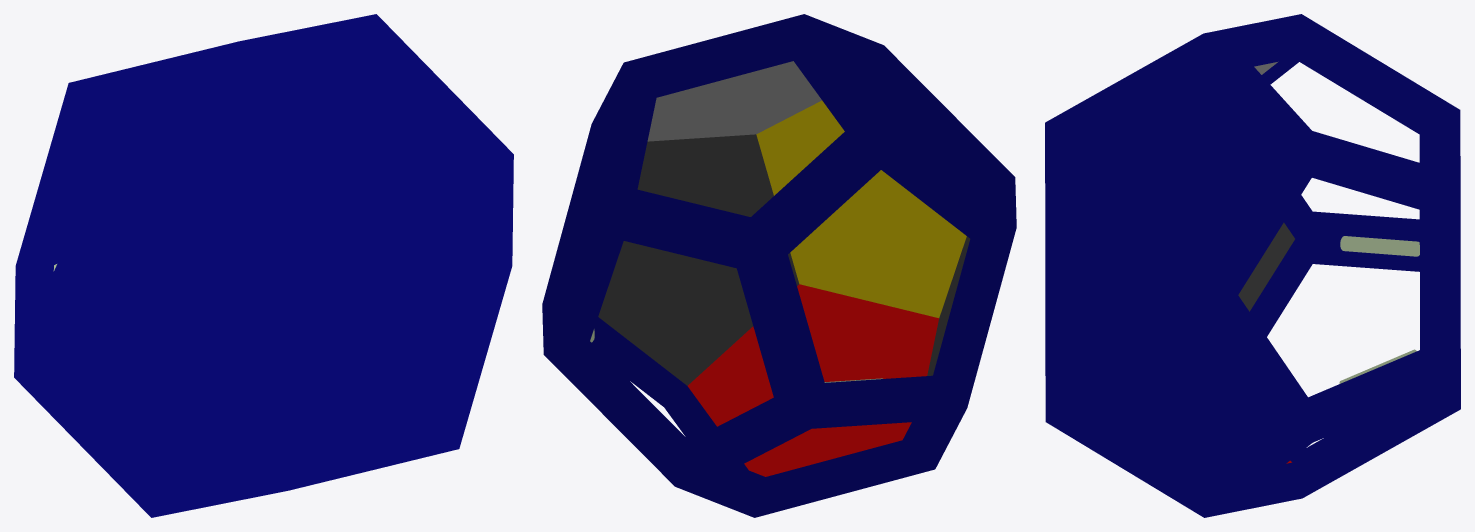
The model's file is pod9.dae.
The picture shows the model from 3 angles, left to right: view 1: azimuth 30°, elevation 25°; view 2: azimuth 150°, elevation 25°; view 3: azimuth 270°, elevation 25°; orthographic projection. The views are drawn at different scales.
Visible parts, largest first — view 1: dodecahedron2-0; view 2: dodecahedron2-0; view 3: dodecahedron2-0.
Part boxes in pixels (bbox=[...]): dodecahedron2-0: bbox=[14, 14, 513, 517]; dodecahedron2-0: bbox=[542, 14, 1016, 517]; dodecahedron2-0: bbox=[1045, 14, 1460, 517].
Bounding box in the file's own units: 2.62 × 2.75 × 2.23.
